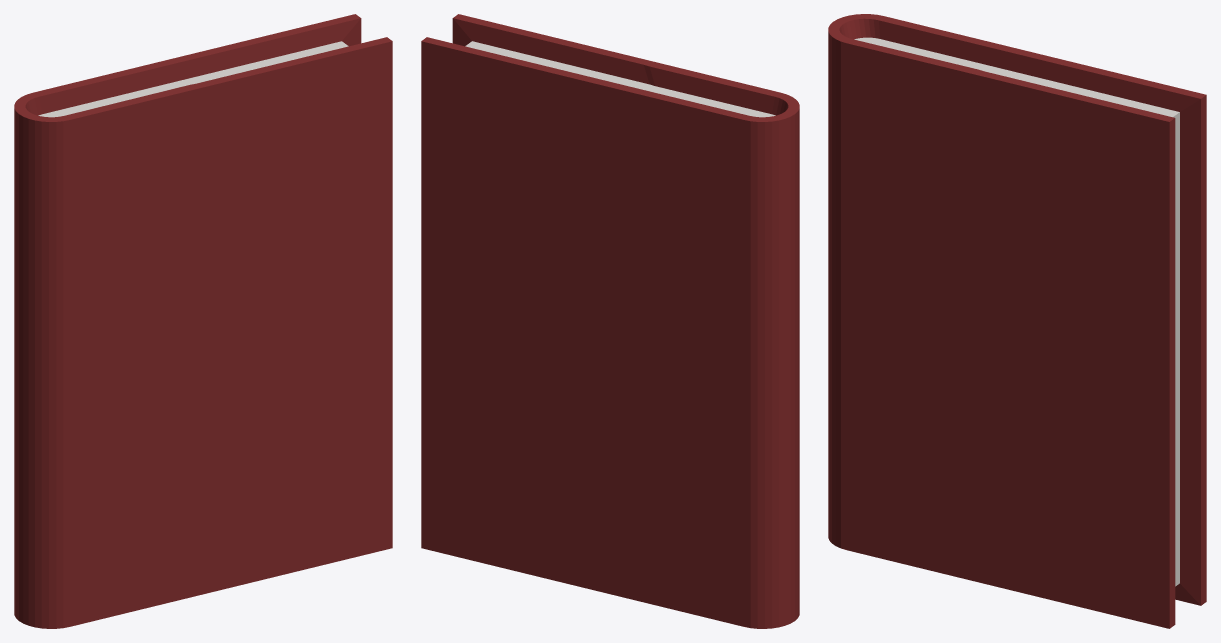
The model's file is Book3.fbx.
The picture shows the model from 3 angles, left to right: view 1: azimuth 30°, elevation 25°; view 2: azimuth 150°, elevation 25°; view 3: azimuth 330°, elevation 25°; orthographic projection.
Parts seen in each view (by area): view 1: Cylinder; view 2: Cylinder; view 3: Cylinder.
Boxes of the visible parts, <box> form: Cylinder: <box>14,14,392,628</box>; Cylinder: <box>421,14,799,628</box>; Cylinder: <box>828,14,1206,628</box>.
Size of the model in its own units: 1101 by 1503 by 200.
